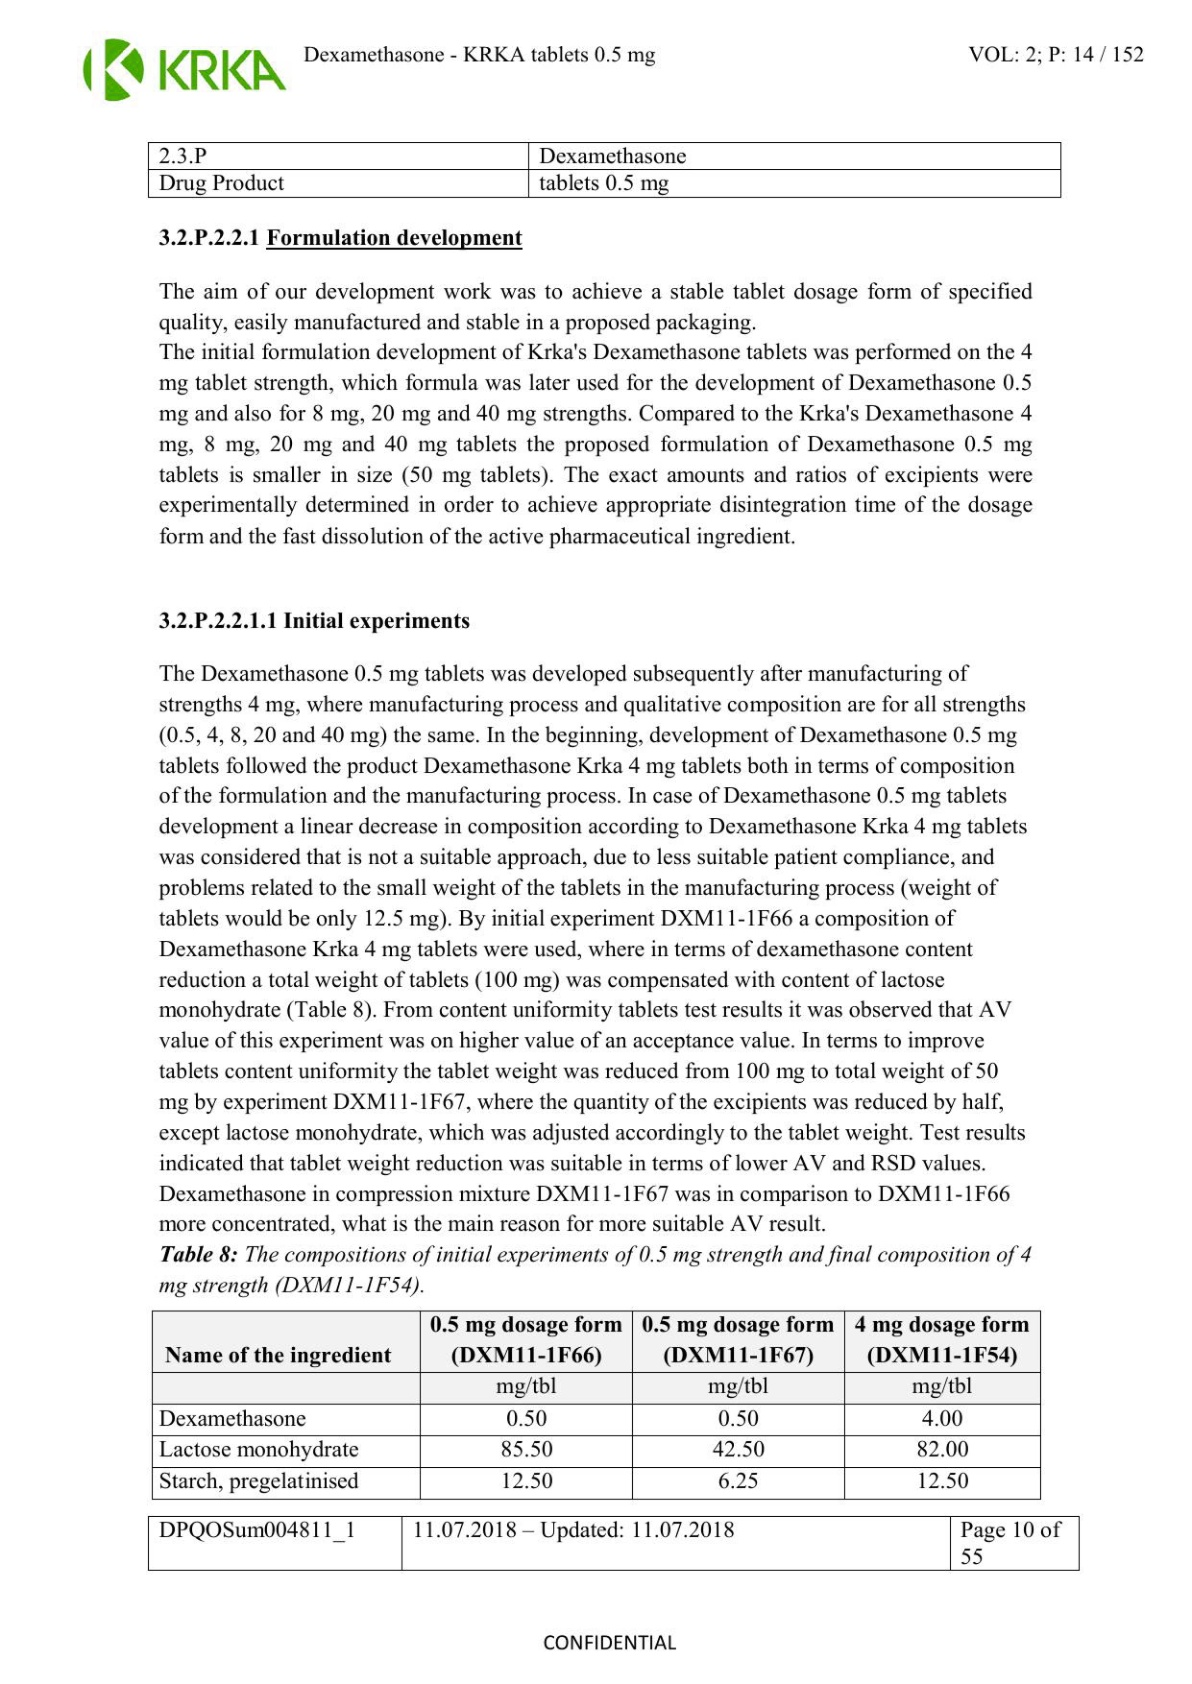full_lined: (151, 1309, 1042, 1501), (147, 141, 1062, 199), (147, 1515, 1080, 1572)
